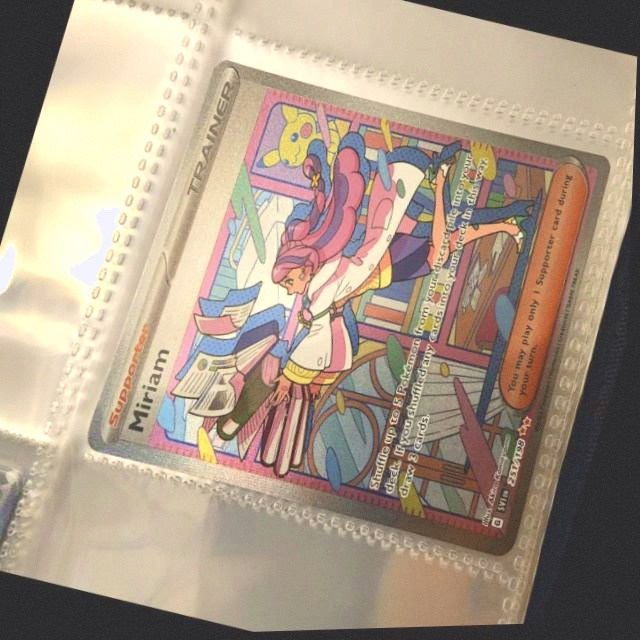card: (89, 58, 614, 561)
